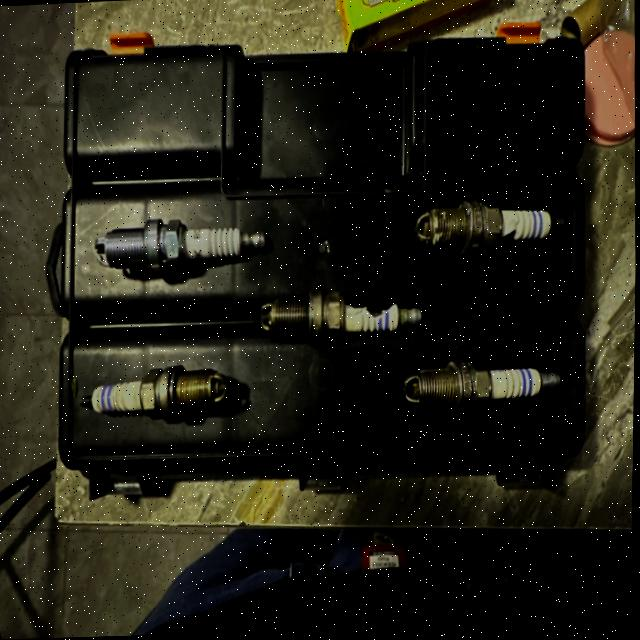damaged_spark-plug: (410, 196, 568, 274), (257, 287, 423, 348)
spark-plug: (77, 366, 239, 433), (94, 216, 267, 275), (402, 362, 563, 424)
